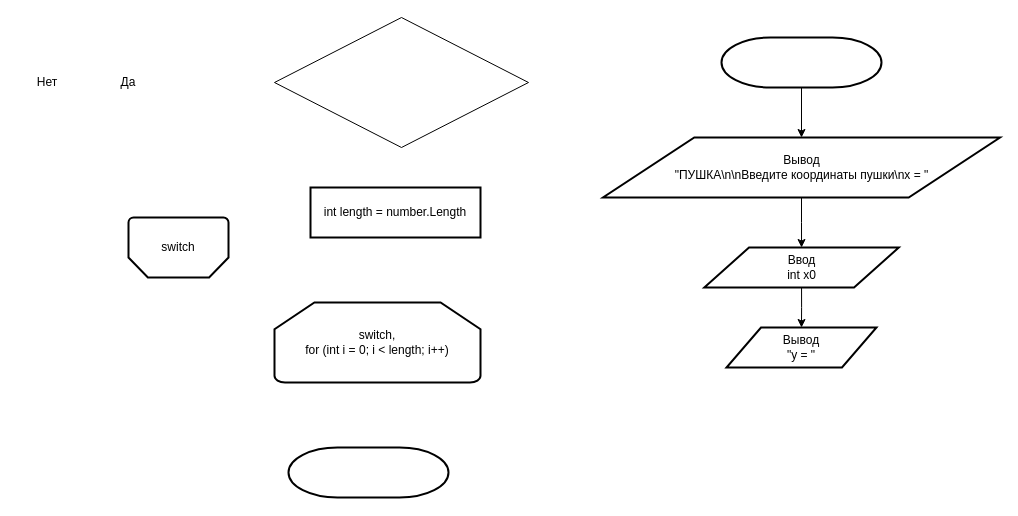
The diagram is 1018 pixels wide and 516 high, and some of its shapes have lost their labels. Each missing label, with the centre of its shape:
"system_1 < 2 || system_1 > 16 || system_2 < 2 || system_2 > 16" goes at (x=401, y=82).
"Конец" goes at (x=368, y=472).
"Начало" goes at (x=801, y=62).
